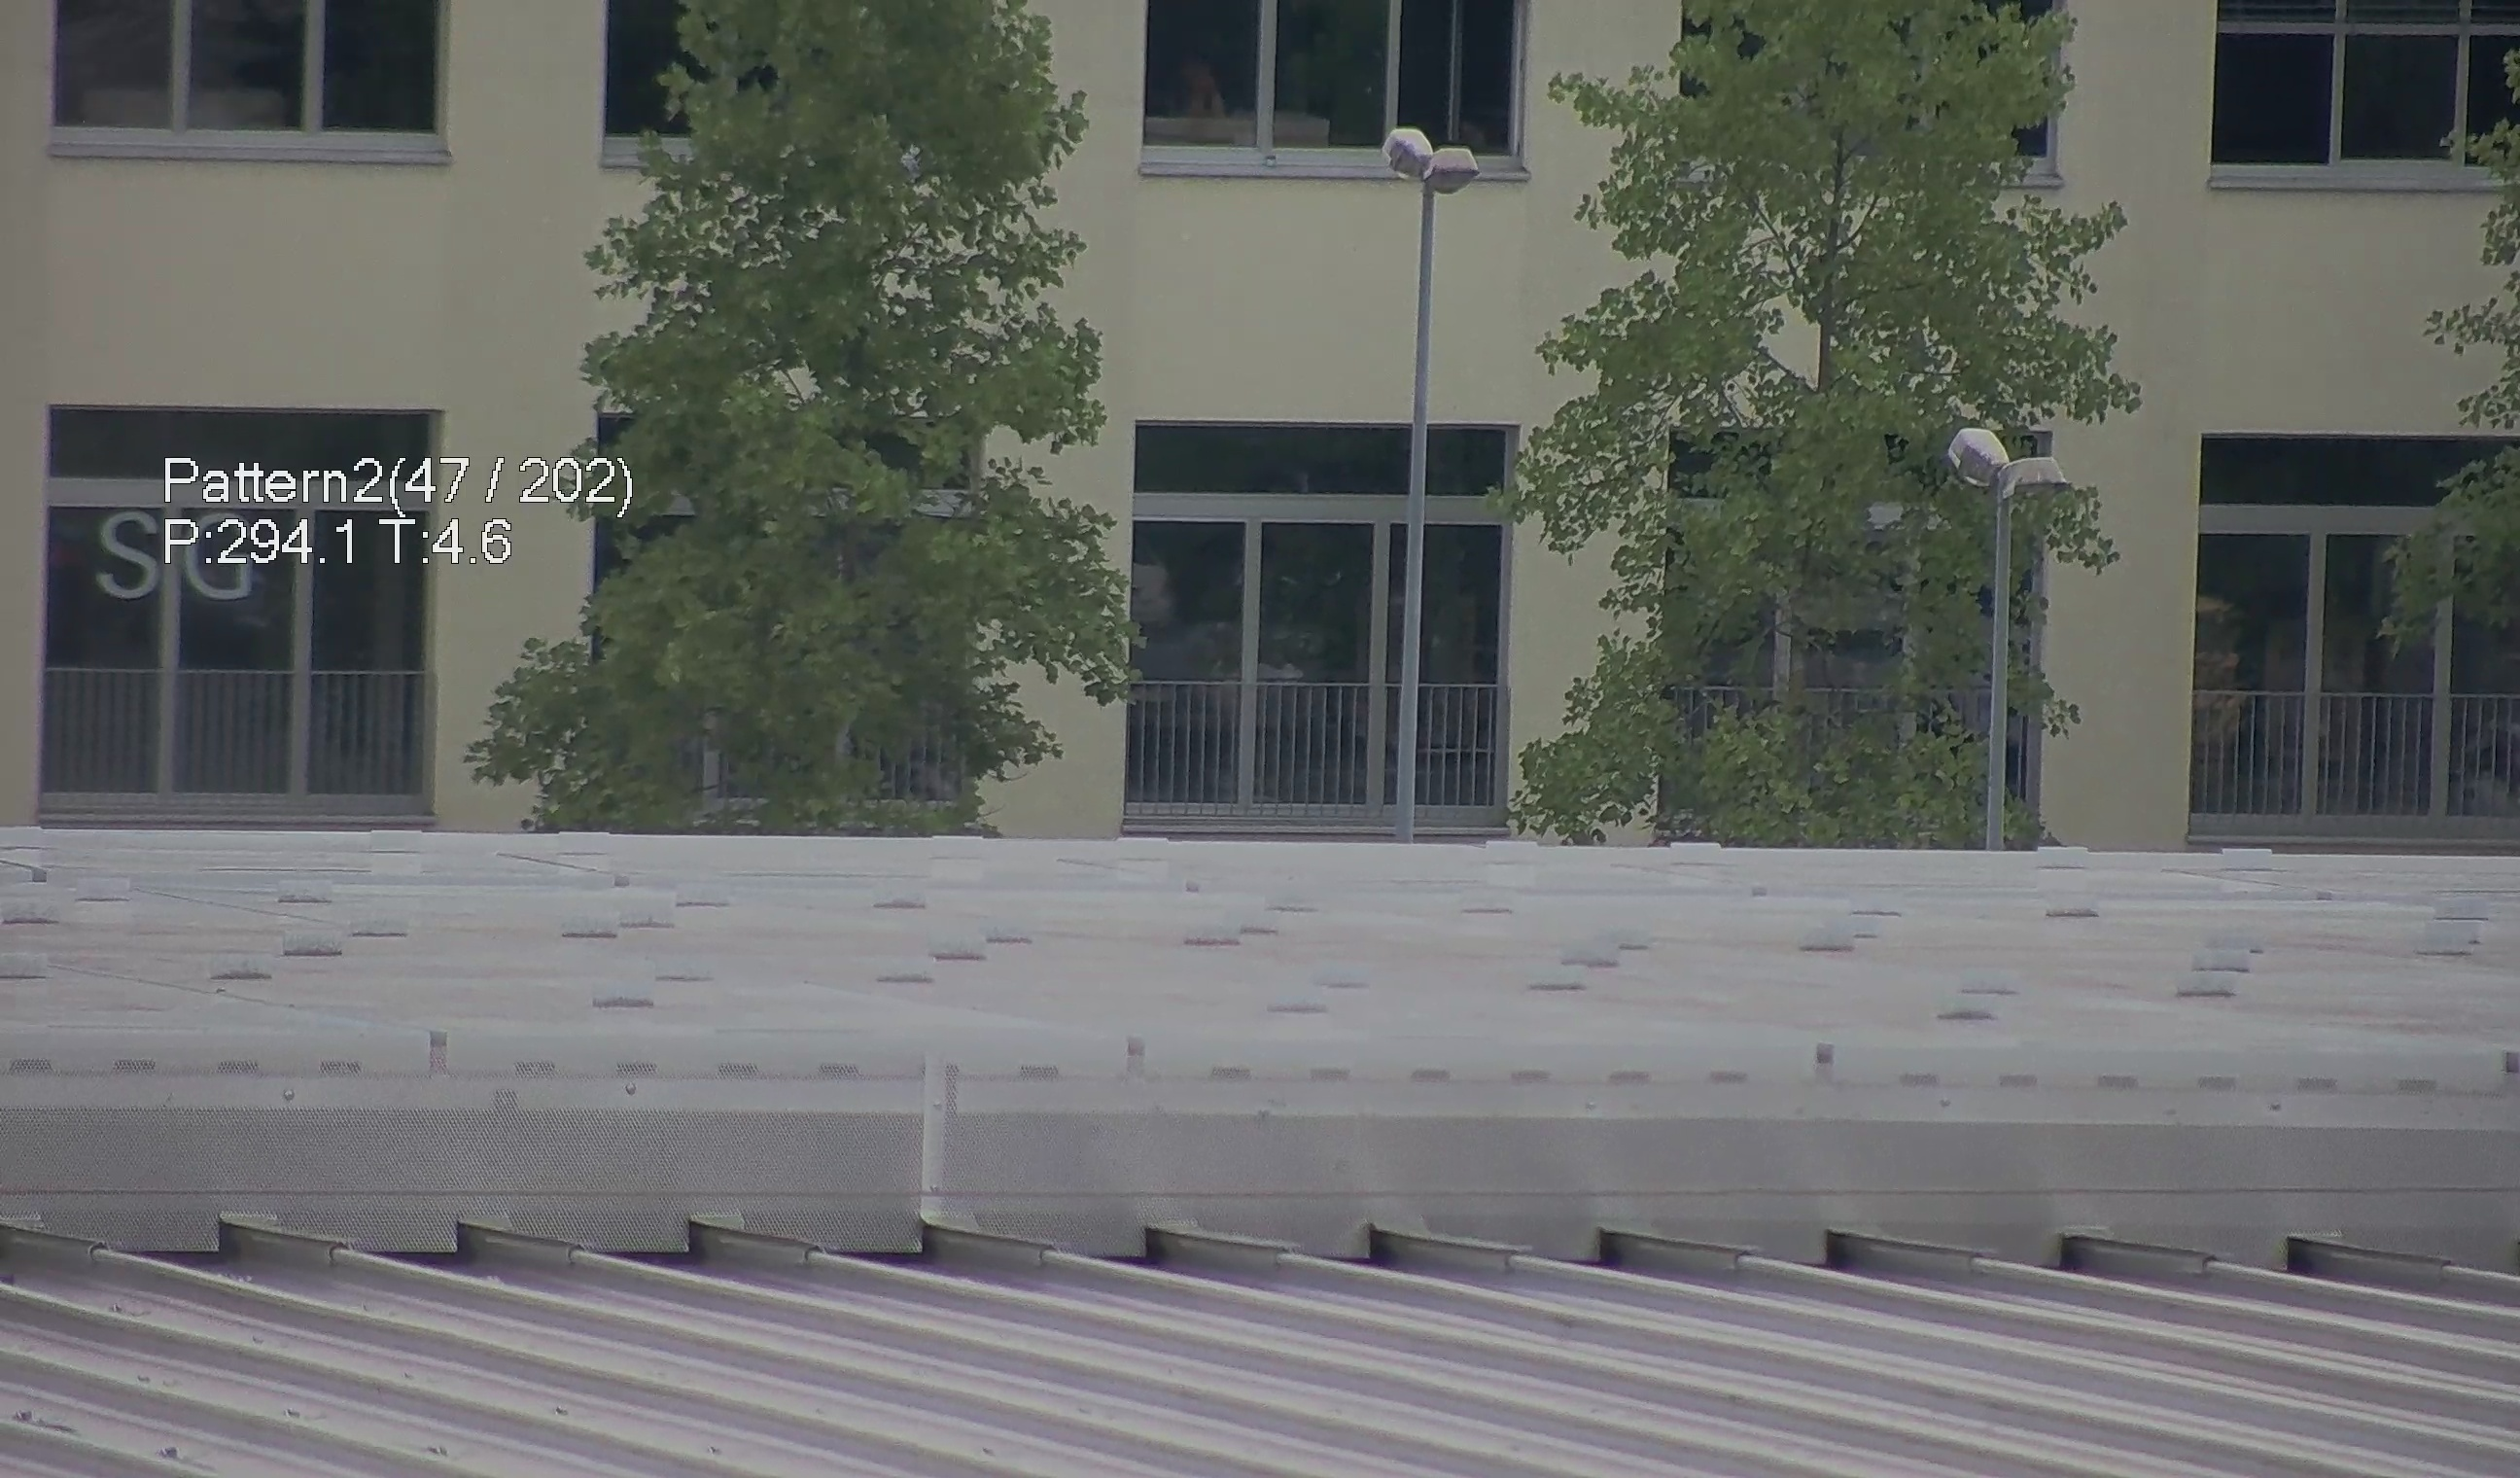Other: (1375, 113, 1530, 199)
